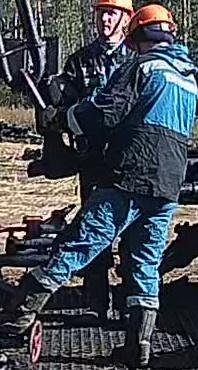gloves: (36, 103, 71, 138)
helmet: (124, 3, 179, 50), (92, 0, 134, 14)
vest: (95, 47, 197, 203), (66, 42, 135, 189)
